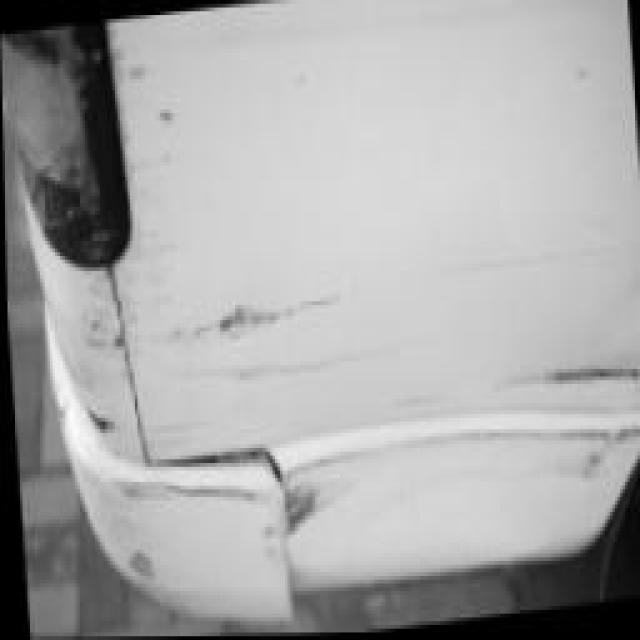Bumper: (118, 60, 640, 621)
